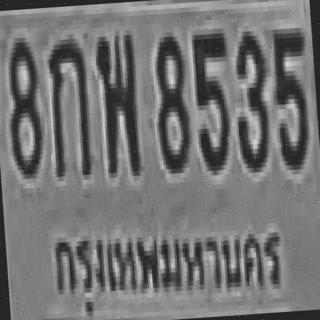A01: (45, 33, 91, 177)
A30: (94, 28, 140, 171)
N03: (229, 25, 269, 168)
N05: (268, 23, 310, 166), (190, 26, 232, 169)
N08: (1, 32, 42, 175), (150, 27, 190, 170)
P04: (47, 205, 290, 320)
